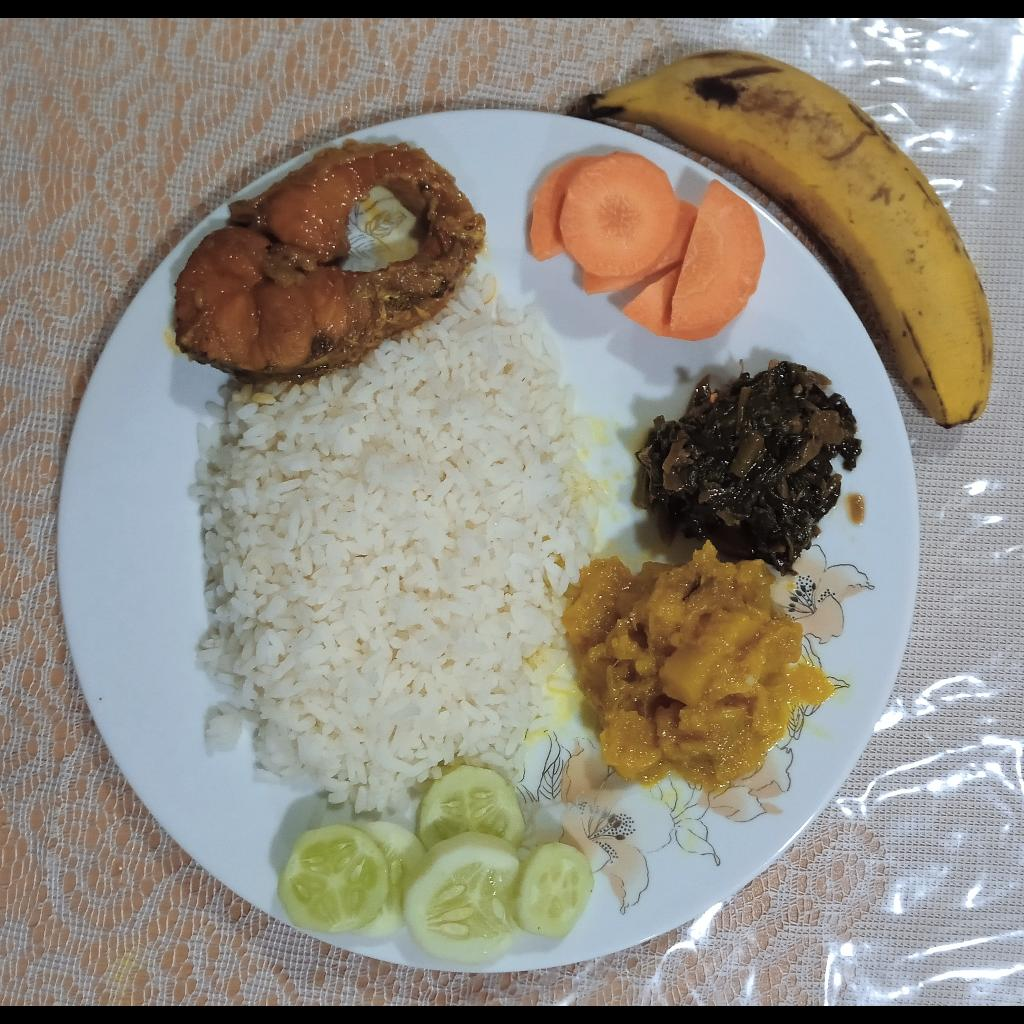banana: (564, 51, 992, 427)
carrot: (527, 150, 765, 342)
cucumber: (275, 767, 595, 963)
fish: (173, 140, 487, 378)
kumra-vaji: (562, 548, 833, 790)
rice: (190, 278, 607, 816)
shak: (632, 364, 863, 576)
